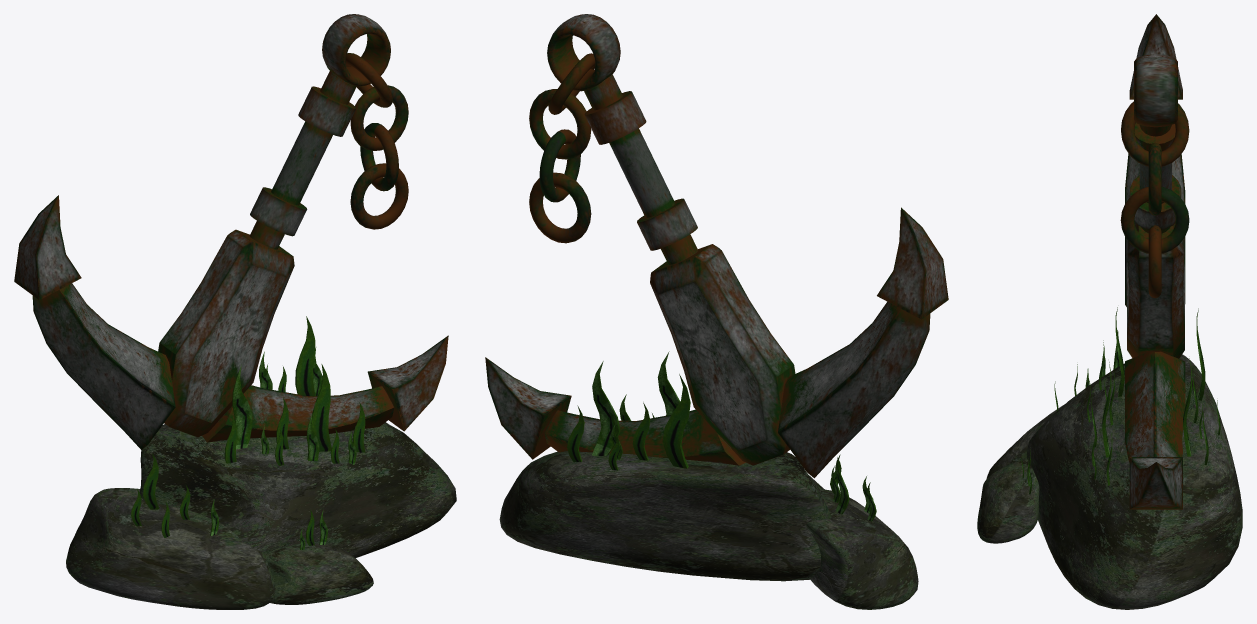
Rendered from ancora.glb.
3 renders of one model, left to right at view 1: azimuth 30°, elevation 25°; view 2: azimuth 150°, elevation 25°; view 3: azimuth 270°, elevation 25°, orthographic. The views are drawn at different scales.
Parts seen in each view (by area): view 1: Box001__0.001; view 2: Box001__0.001; view 3: Box001__0.001.
Part boxes in pixels (<box>): Box001__0.001: <box>14,14,456,609</box>; Box001__0.001: <box>485,14,948,609</box>; Box001__0.001: <box>977,14,1242,609</box>.
Bounding box in the file's own units: 13.03 × 14.72 × 6.75.
1 material, 1 textured.
